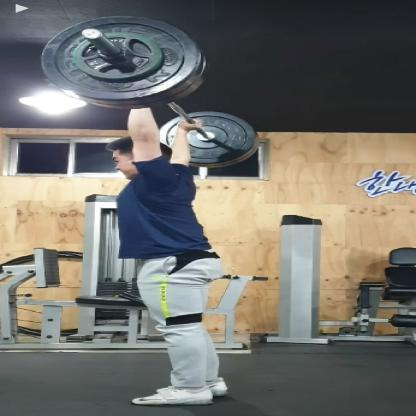barbell: (41, 13, 260, 169)
